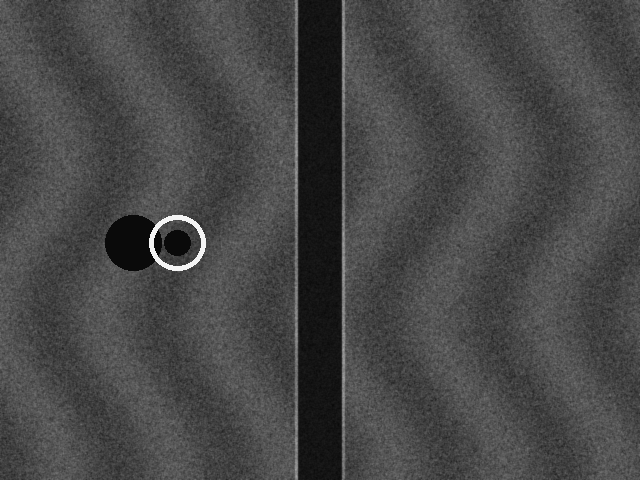Rubber Debris: (149, 215, 205, 270)
